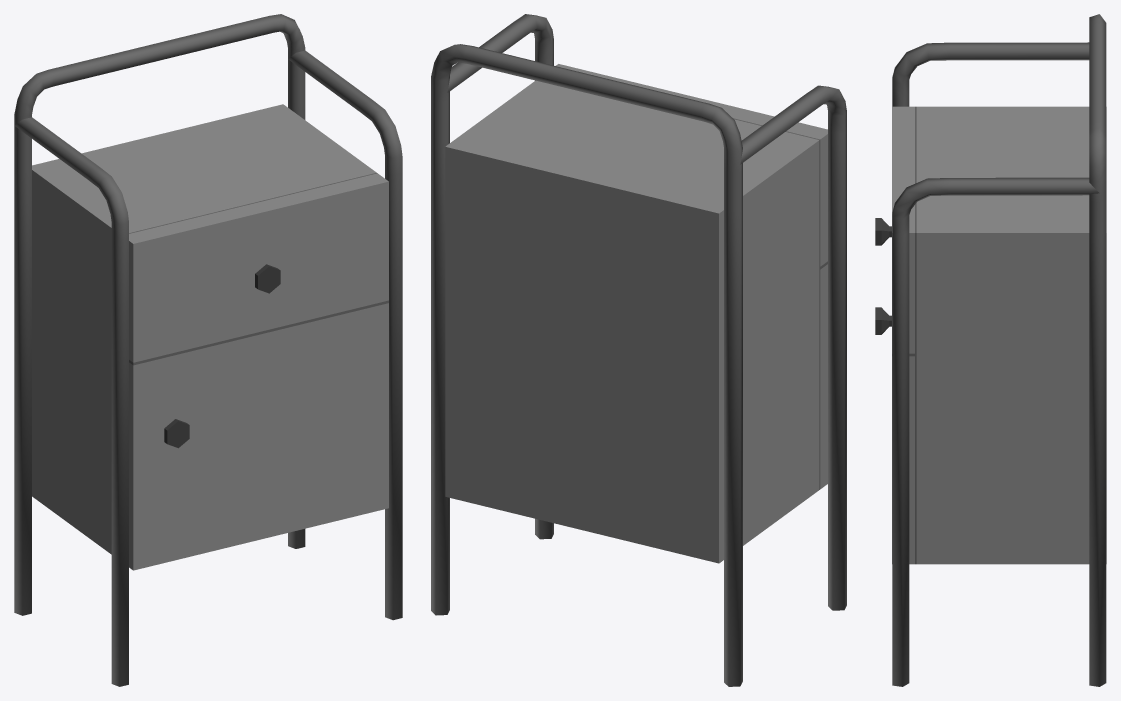
File: SideTable.fbx
3 renders of one model, left to right at view 1: azimuth 30°, elevation 25°; view 2: azimuth 150°, elevation 25°; view 3: azimuth 270°, elevation 25°, orthographic. The views are drawn at different scales.
Parts seen in each view (by area): view 1: nightstand; view 2: nightstand; view 3: nightstand.
Boxes of the visible parts, <box> form: nightstand: <box>14,14,402,686</box>; nightstand: <box>431,14,846,686</box>; nightstand: <box>875,14,1106,686</box>.
Size of the model in its own units: 157 by 278 by 107.
